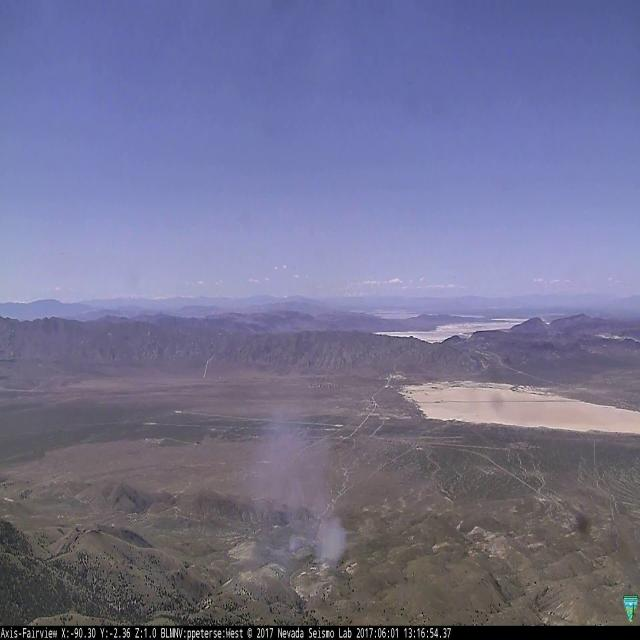smoke: (244, 397, 351, 567)
